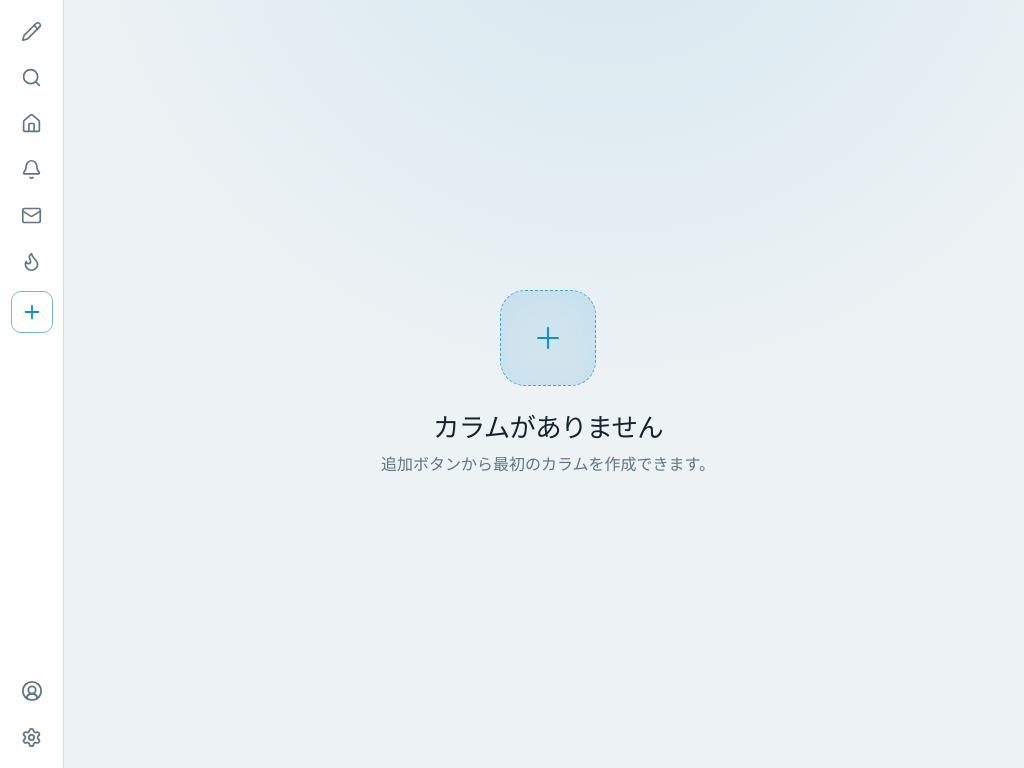
Scenario: NyTweetDeck shell › opens direct messages and trends from the default menu
Click the button named "ダイレクトメッセージ" at coordinates (32, 215), box [10,194,52,236]
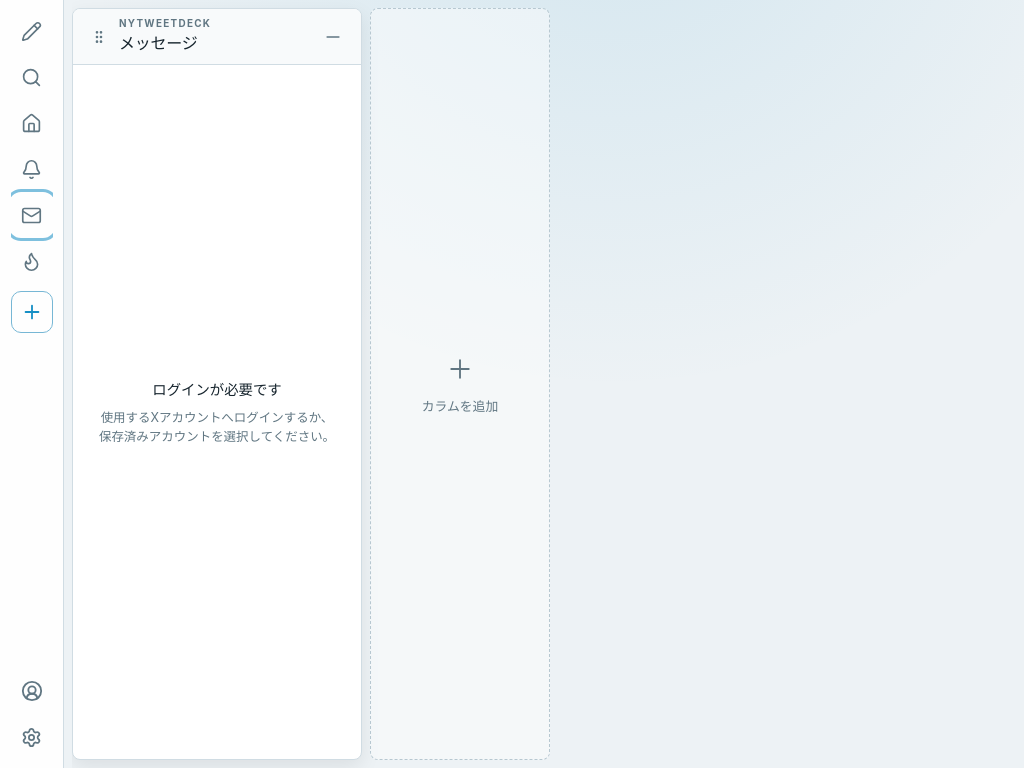
Click the button named "トレンド" at coordinates (32, 261), box [10,240,52,282]
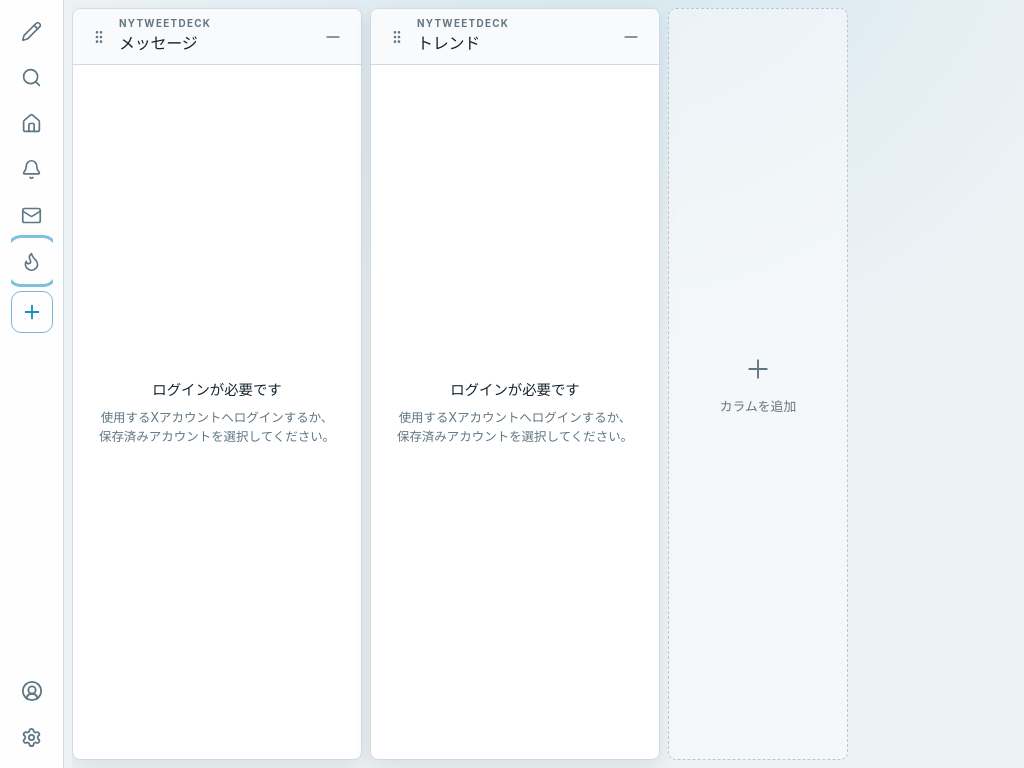
Now the heading "メッセージ" is shown, box [119,33,198,53]
Now the heading "トレンド" is shown, box [417,33,480,53]
